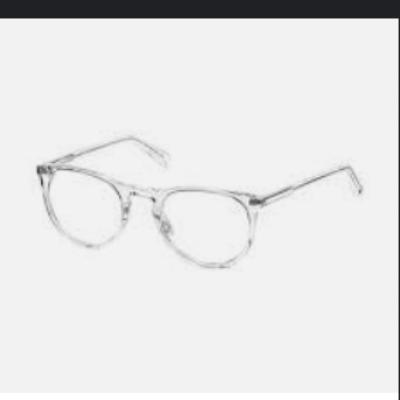glasses: (34, 130, 374, 274)
